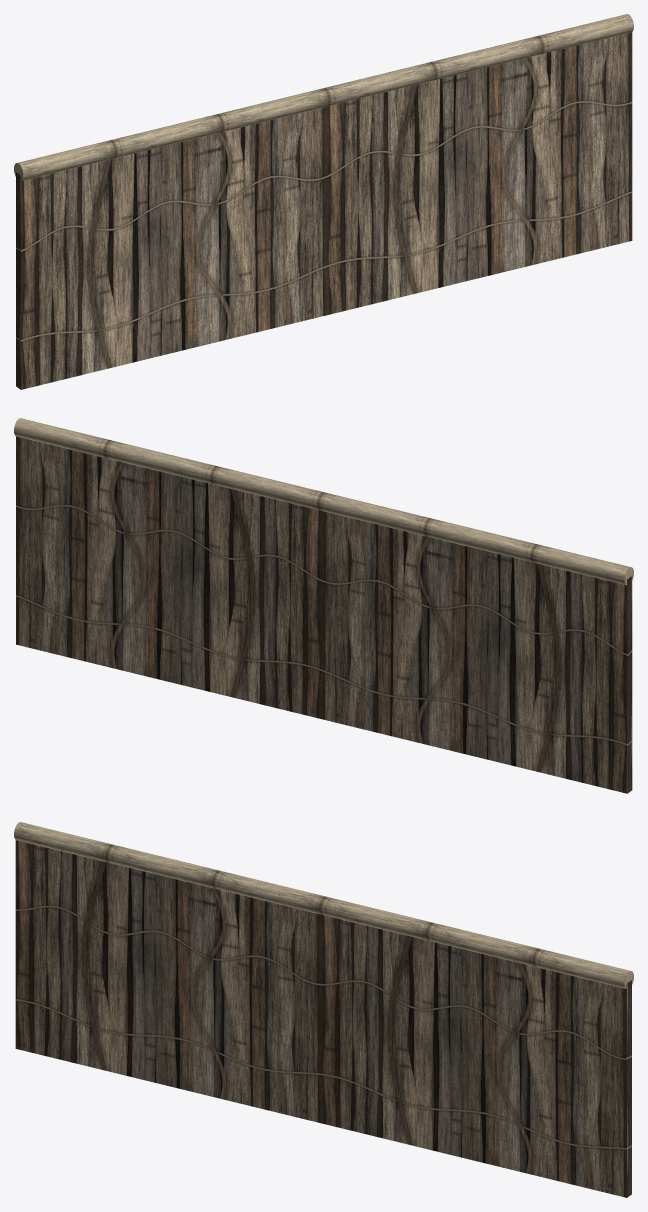
File: low_wall.glb
3 views of the same model, one above another, from view 1: azimuth 30°, elevation 25°; view 2: azimuth 150°, elevation 25°; view 3: azimuth 330°, elevation 25° (orthographic).
Parts seen in each view (by area): view 1: low_wall; view 2: low_wall; view 3: low_wall.
Boxes of the visible parts, <box> form: low_wall: <box>14,14,633,389</box>; low_wall: <box>14,418,633,793</box>; low_wall: <box>14,822,633,1197</box>.
Bounding box in the file's own units: 5.16 × 1.81 × 0.1366.
2 materials, 2 textured.
